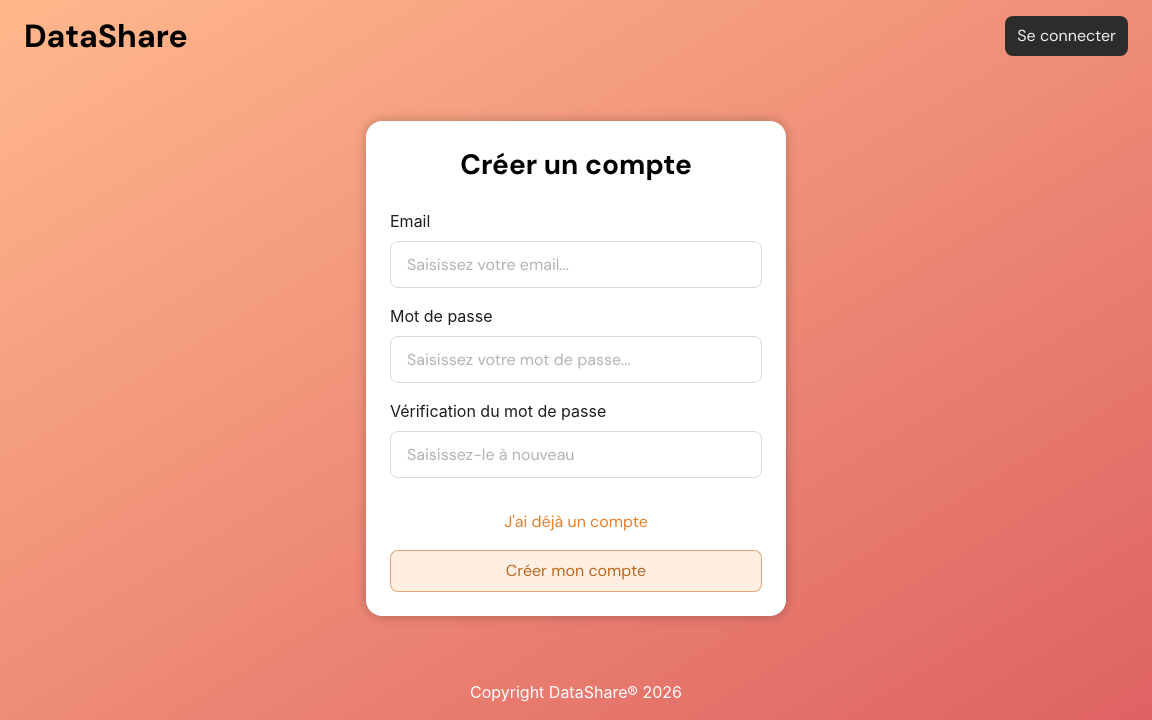
RegisterView › affiche une erreur et n'appelle pas register si l'email est invalide
Type "pas-un-email" into the field with id "register-email".
click(576, 264); type("pas-un-email")  # box [390,240,762,288]
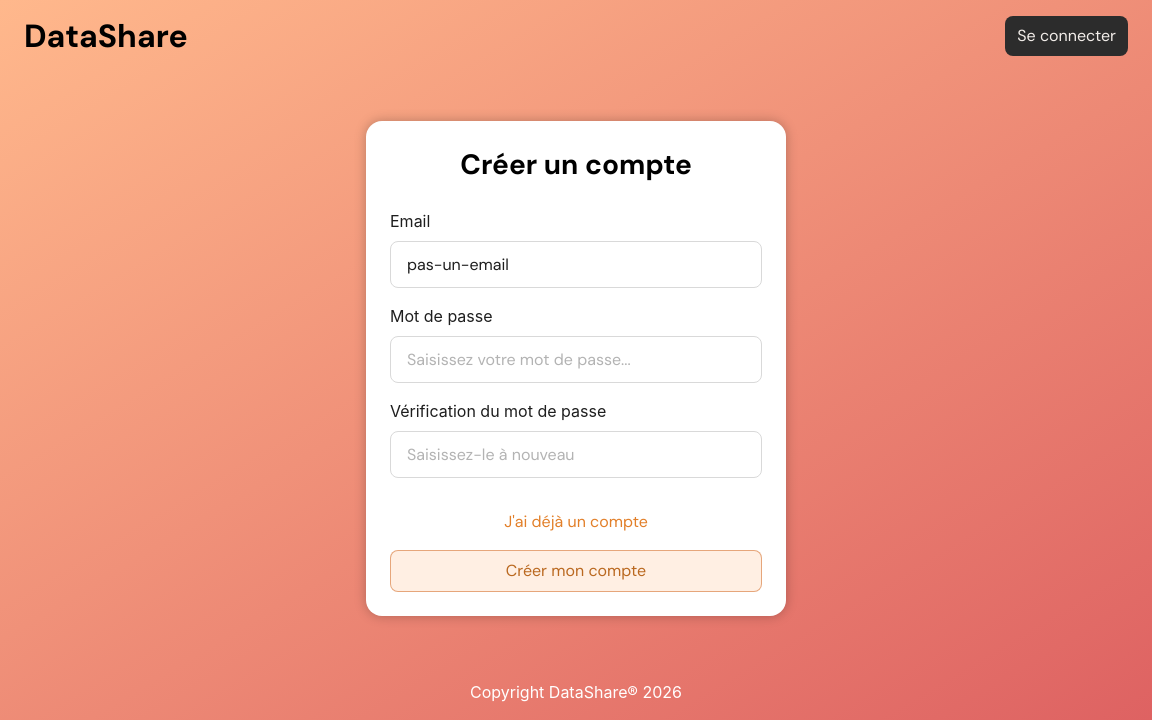
Type "motdepasse123" into the password field with id "register-password".
click(576, 359); type("motdepasse123")  # box [390,336,762,382]
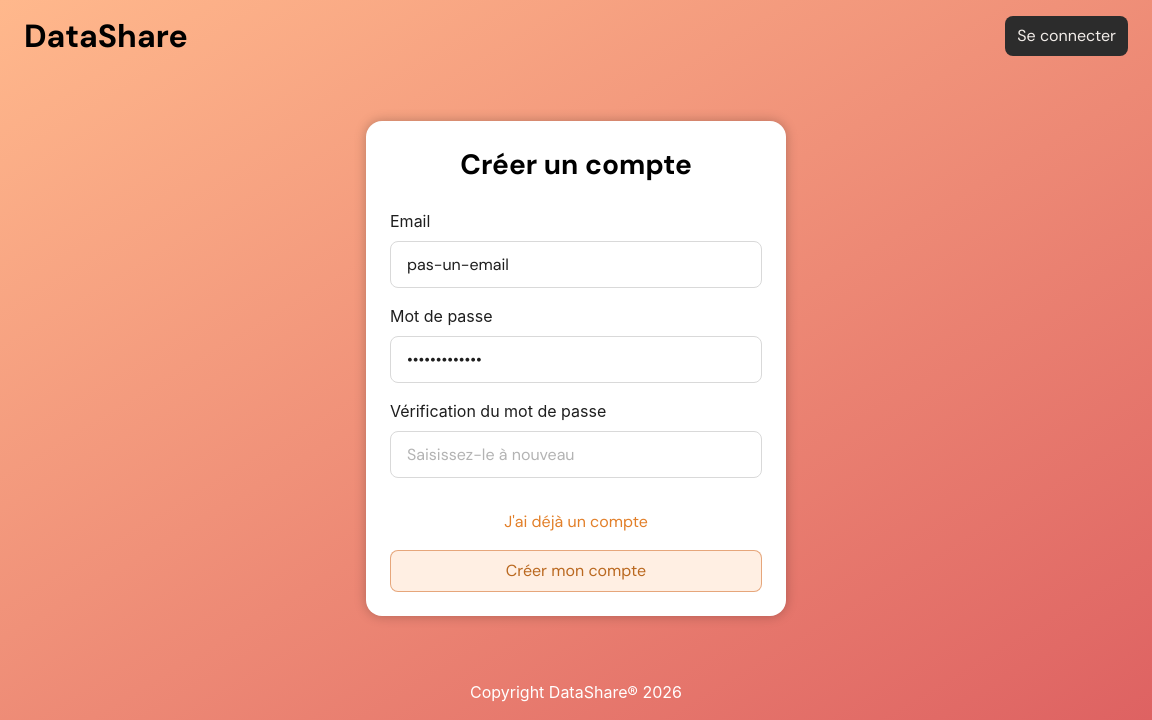
Type "motdepasse123" into the password field with id "register-password-confirmation".
click(576, 454); type("motdepasse123")  # box [390,430,762,478]
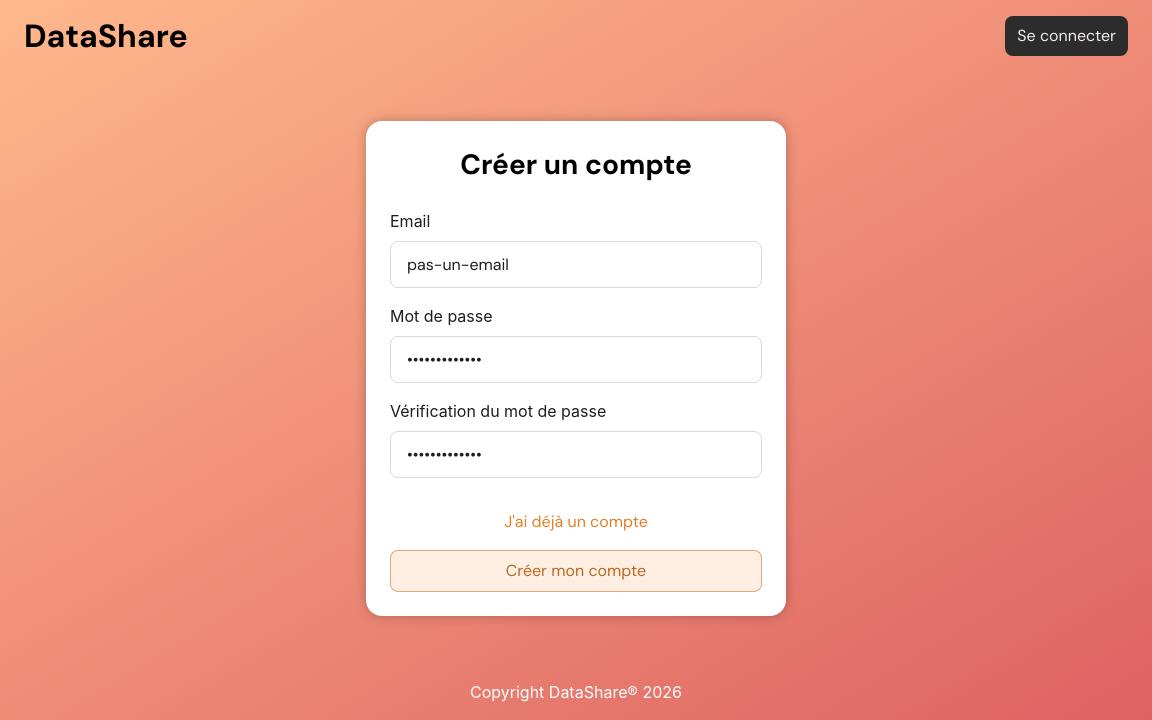
Submit the form, box [390,208,762,592]
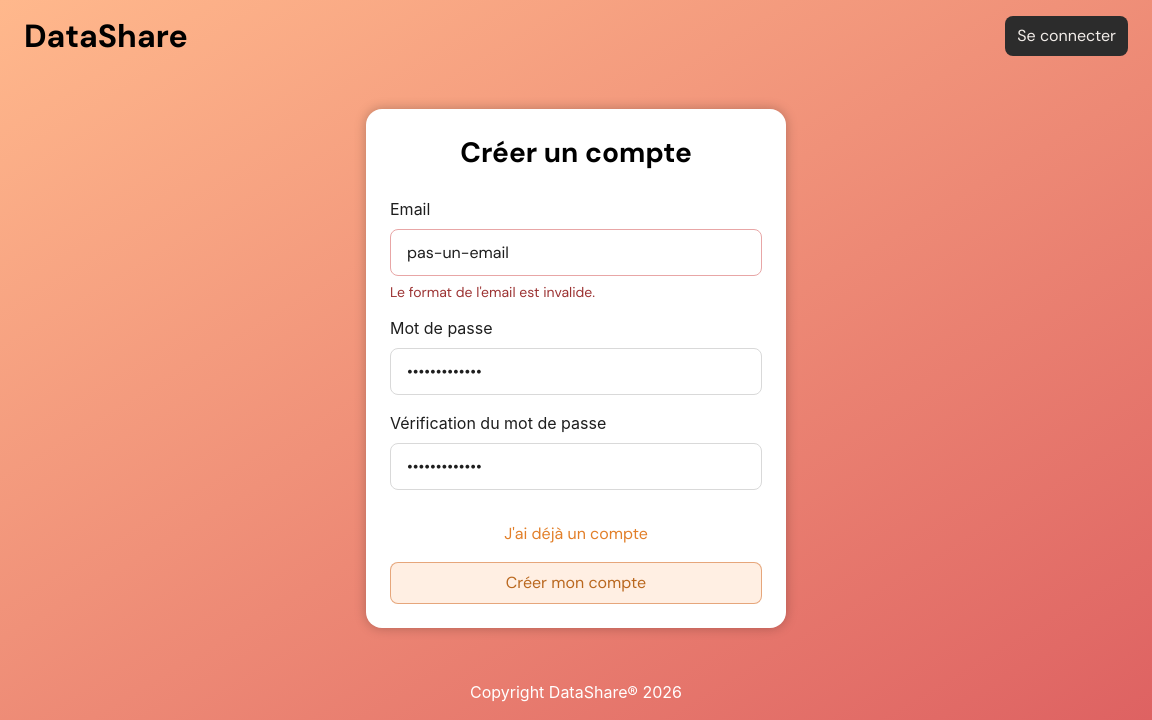
Result: the text with id "register-email-error" reads "Le format de l'email est invalide." at [390,282,595,300]
